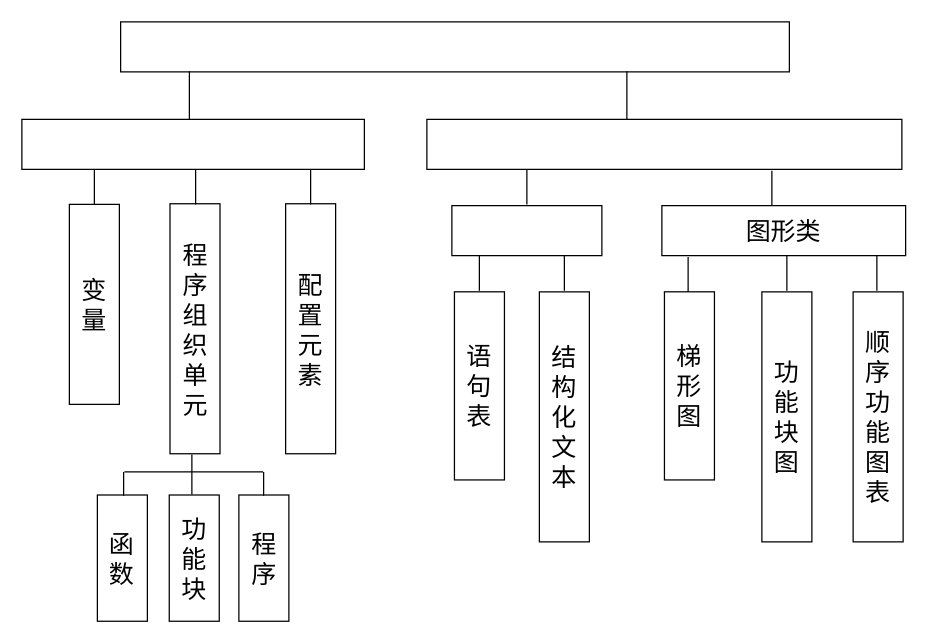
This 928x644 diagram has some shape labels left out. The shapes that lost their labels are listed below. From the top down, each one's box as (x1, y1, x2, y2) in pixels, then its label:
(119, 21, 789, 72): IEC61131-3标准
(21, 118, 364, 169): 公共元素
(426, 118, 902, 169): 编程语言
(451, 204, 602, 256): 文本类
